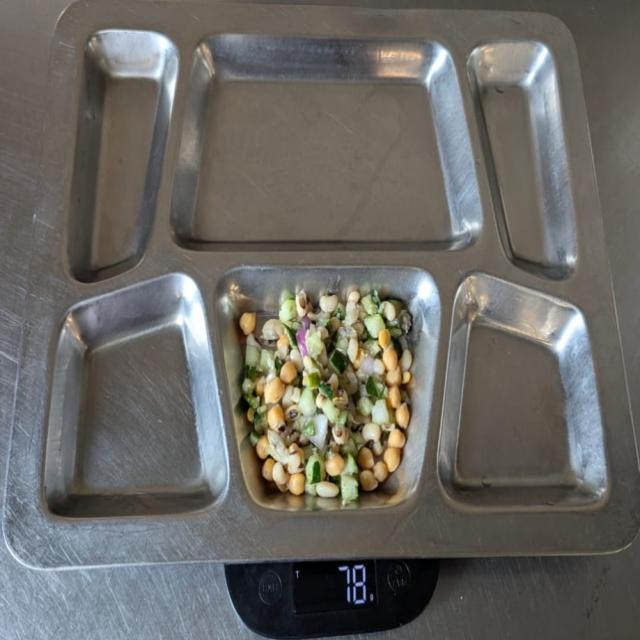Salad: (239, 291, 414, 502)
